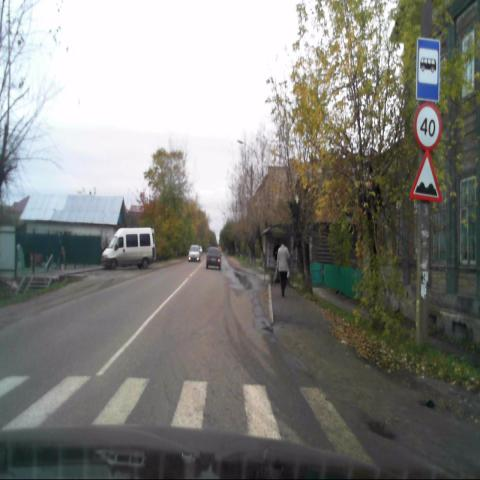1_16: (409, 150, 442, 204)
